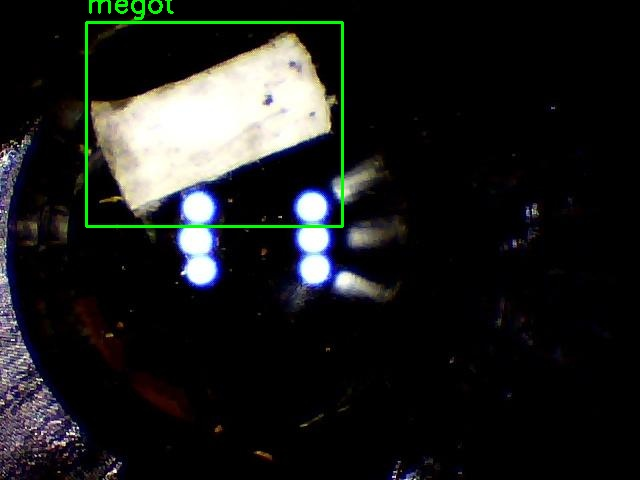megot: (86, 22, 342, 226)
